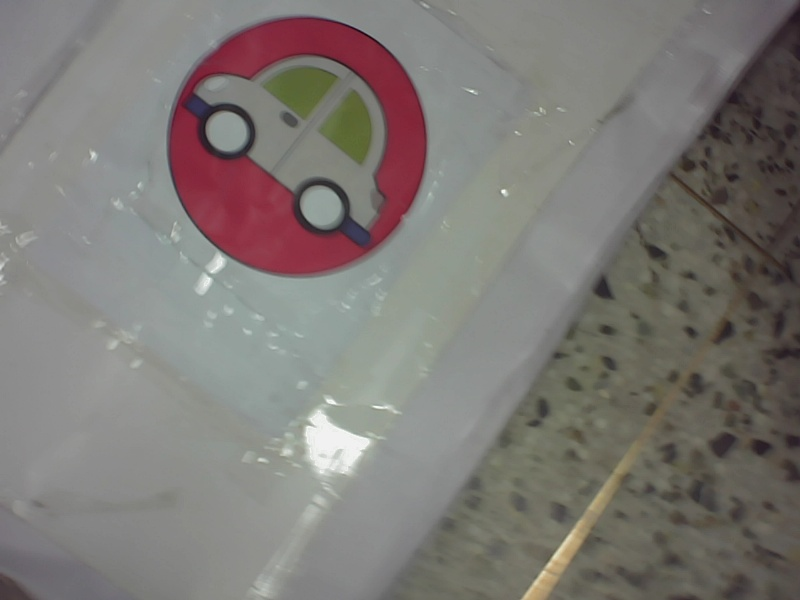areaC: (154, 2, 434, 277)
